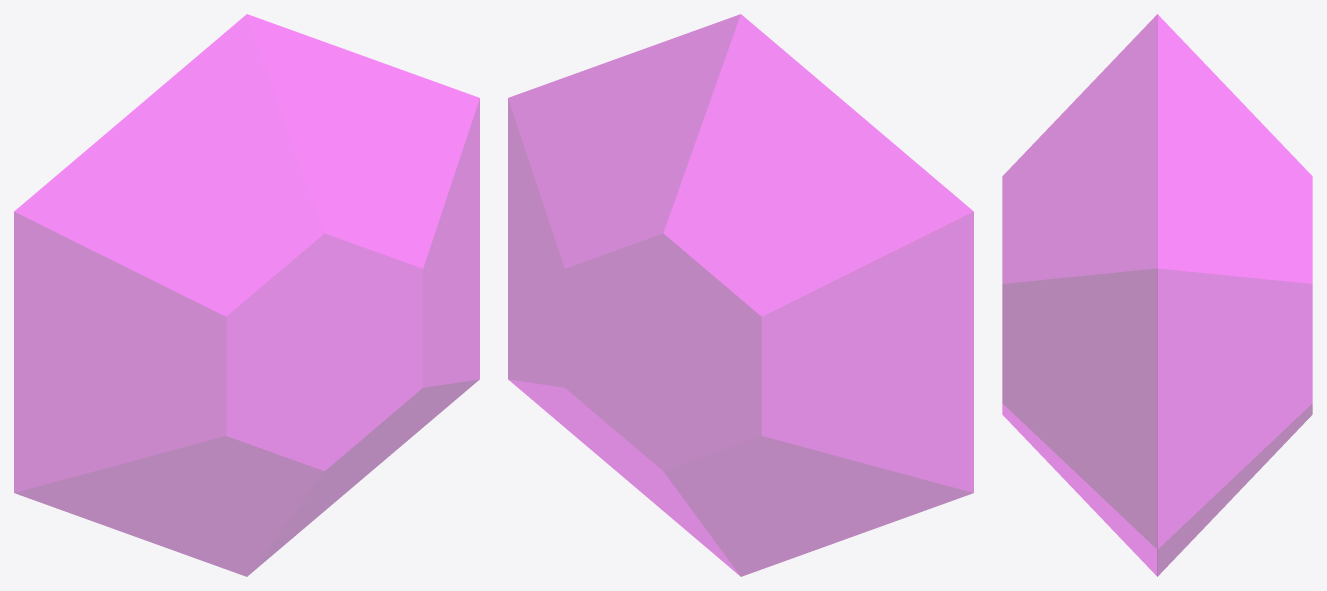
File: daiya2.glb
3 views of the same model, side by side, from view 1: azimuth 30°, elevation 25°; view 2: azimuth 150°, elevation 25°; view 3: azimuth 270°, elevation 25° (orthographic).
Visible parts, largest first — view 1: daiya; view 2: daiya; view 3: daiya.
Boxes of the visible parts, x1,y1,x2,y2 form: daiya: [14, 14, 479, 576]; daiya: [508, 14, 973, 576]; daiya: [1002, 14, 1312, 576].
Size of the model in its own units: 0.052 by 0.06 by 0.03.
